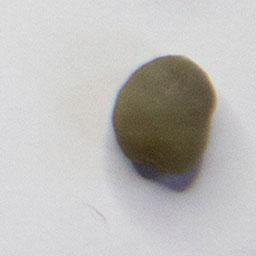peaberry: (110, 51, 218, 179)
